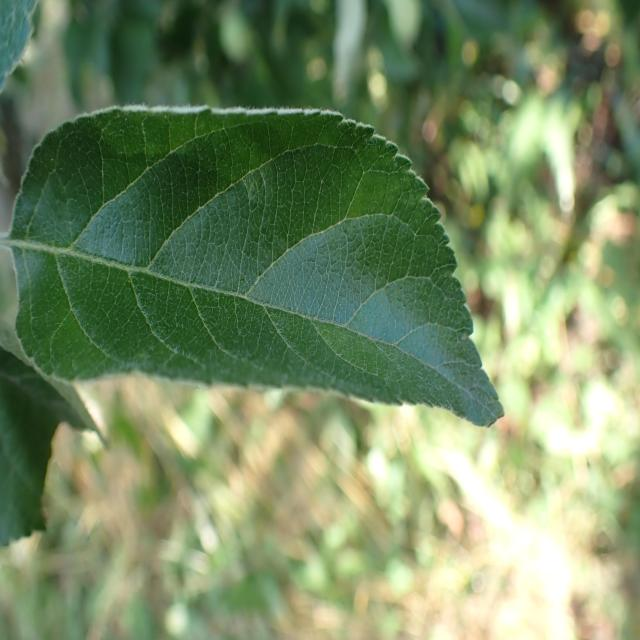healthy: (9, 104, 506, 427)
